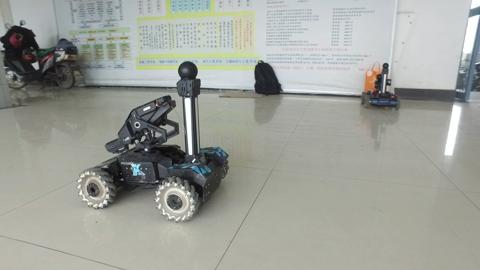bag: (247, 56, 289, 103)
chariot: (70, 59, 239, 224), (358, 61, 405, 117)
